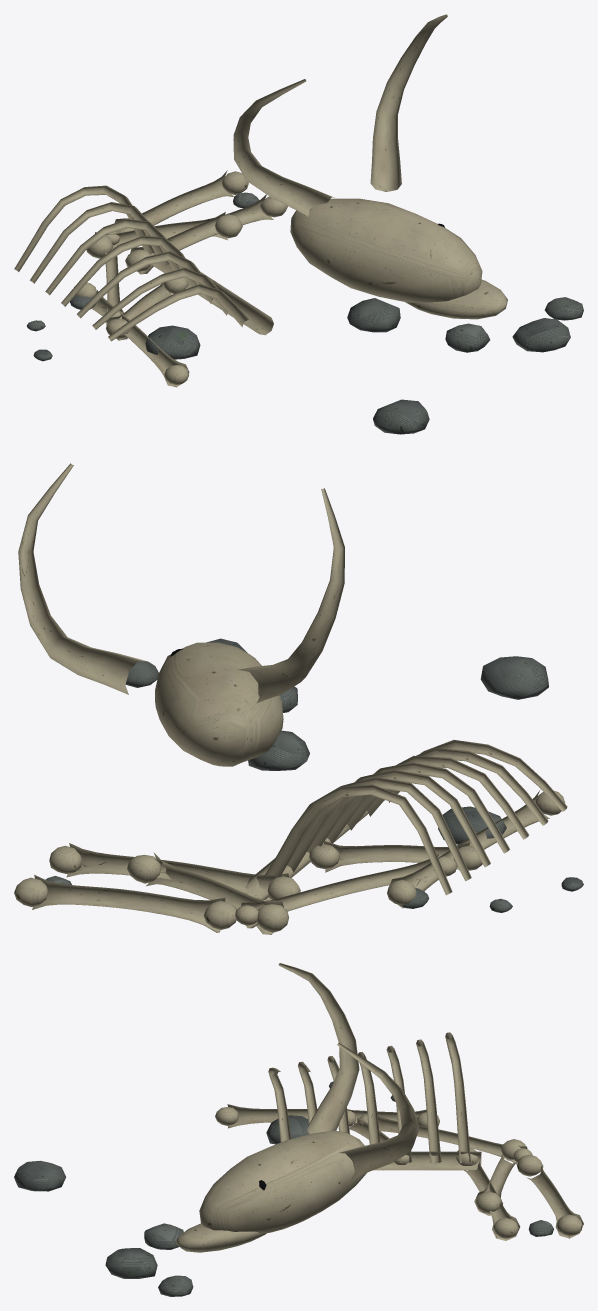
Rendered from forest_beast_bone_pile.glb.
3 renders of one model, top to bottom at view 1: azimuth 30°, elevation 25°; view 2: azimuth 150°, elevation 25°; view 3: azimuth 270°, elevation 25°, orthographic. The views are drawn at different scales.
Parts seen in each view (by area): view 1: forest_beast_bone_pile__bone, forest_beast_bone_pile__stone_dark; view 2: forest_beast_bone_pile__bone, forest_beast_bone_pile__stone_dark; view 3: forest_beast_bone_pile__bone, forest_beast_bone_pile__stone_dark.
Part boxes in pixels (x1,y1,x2,y2): forest_beast_bone_pile__bone: (14, 14, 507, 387); forest_beast_bone_pile__stone_dark: (27, 192, 583, 434); forest_beast_bone_pile__bone: (14, 463, 567, 934); forest_beast_bone_pile__stone_dark: (45, 638, 583, 912); forest_beast_bone_pile__bone: (176, 963, 583, 1252); forest_beast_bone_pile__stone_dark: (14, 1081, 553, 1296).
Size of the model in its own units: 3.09 by 1.61 by 3.48.
Materials: 3 (2 with a texture image).
